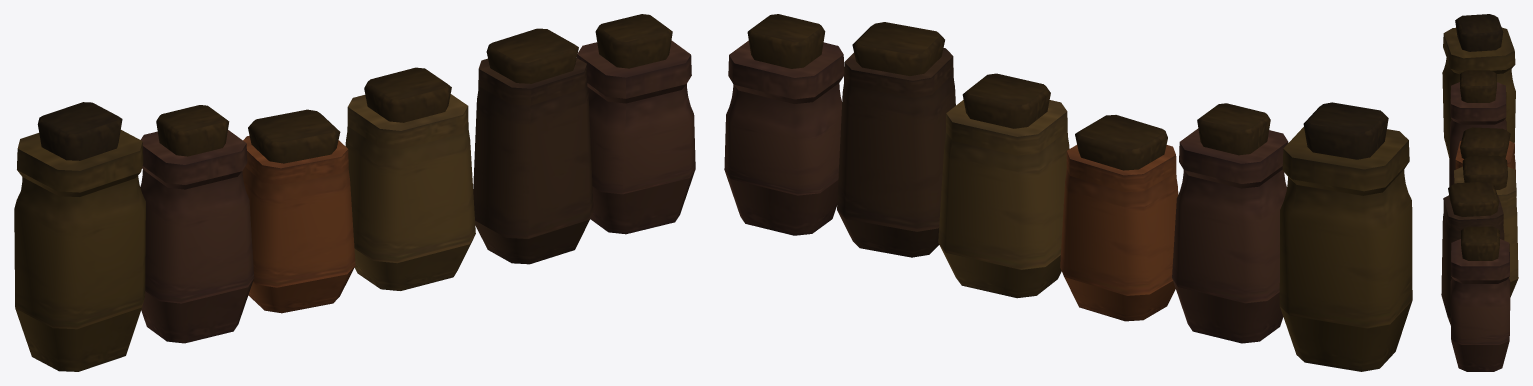
File: SmallBottles_2.gltf
The picture shows the model from 3 angles, left to right: view 1: azimuth 30°, elevation 25°; view 2: azimuth 150°, elevation 25°; view 3: azimuth 270°, elevation 25°; orthographic projection. The views are drawn at different scales.
Visible parts, largest first — view 1: SmallBottles_2; view 2: SmallBottles_2; view 3: SmallBottles_2.
Boxes of the visible parts, left/top/right/bottom form: SmallBottles_2: left=14, top=14, right=695, bottom=371; SmallBottles_2: left=724, top=14, right=1412, bottom=371; SmallBottles_2: left=1441, top=14, right=1518, bottom=371.
Size of the model in its own units: 0.4099 by 0.1417 by 0.0625.
Materials: 1 (1 with a texture image).
